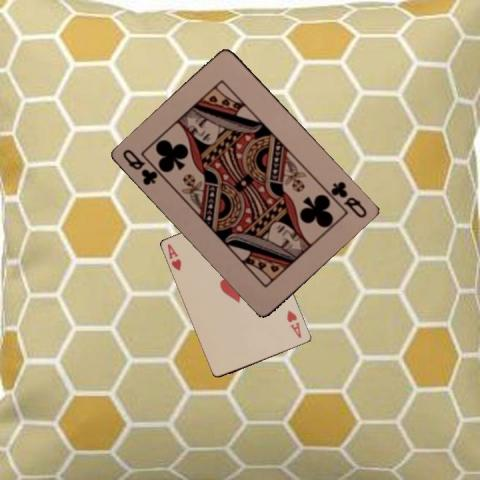Ah: (284, 308, 303, 340), (164, 241, 182, 272)
Qc: (328, 178, 369, 220), (120, 146, 159, 187)
